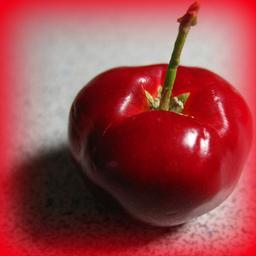apple: (68, 63, 250, 226)
